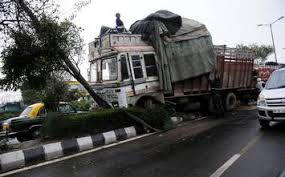accident: (91, 43, 256, 136)
